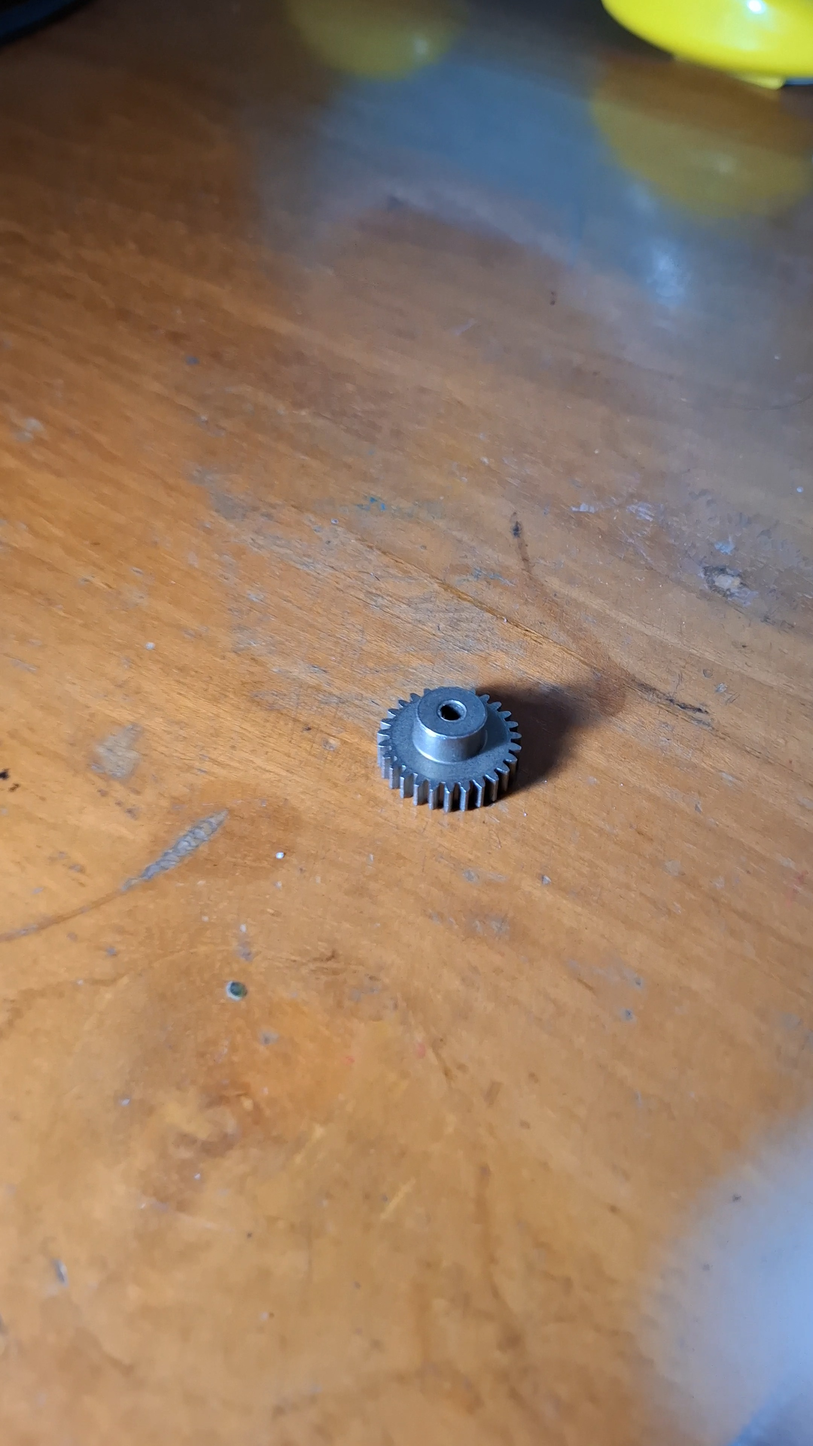spur gear: (378, 686, 520, 811)
